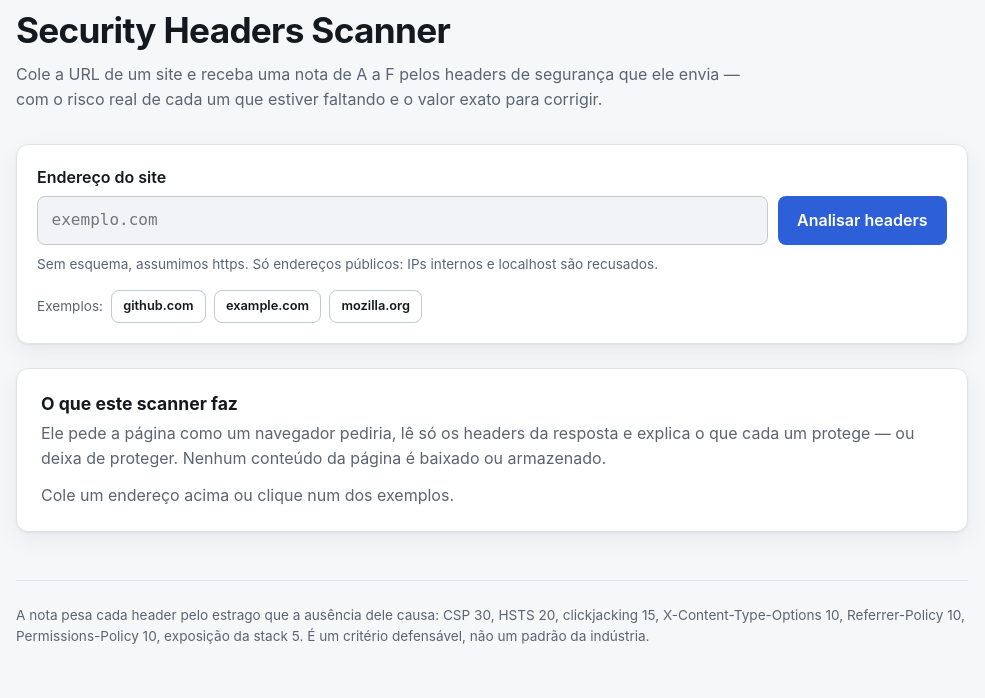
App › handles the API being unreachable
Type "example.com" into the field labelled "Endereço do site" at [403, 221], box top-left (37, 196), bottom-right (768, 245)
Then press Enter
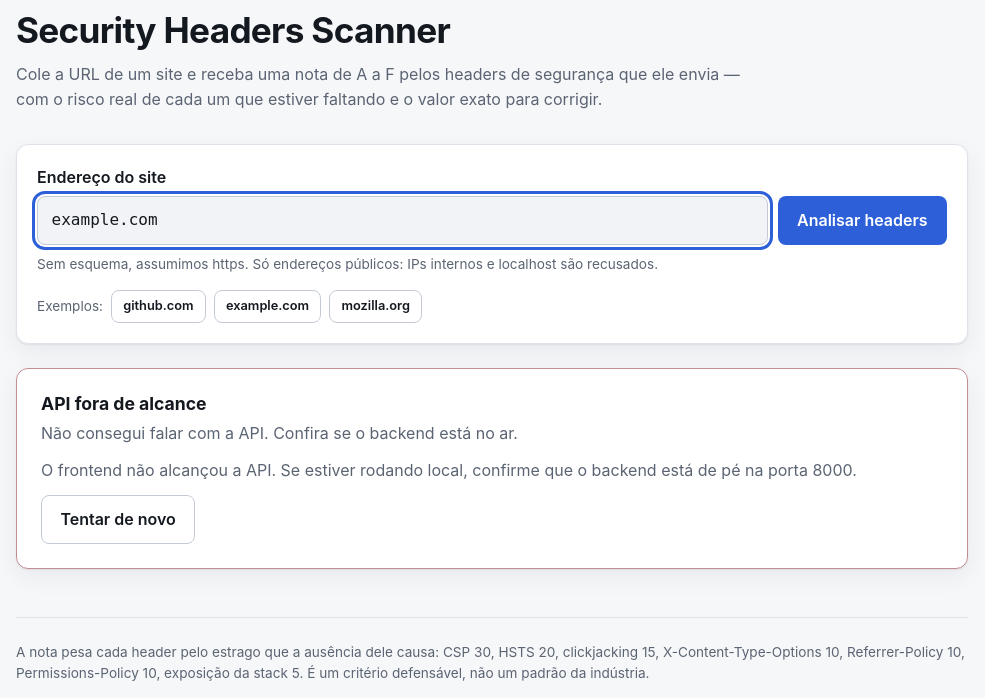
Expected: the heading "API fora de alcance" is shown, top-left (41, 393), bottom-right (207, 414)
